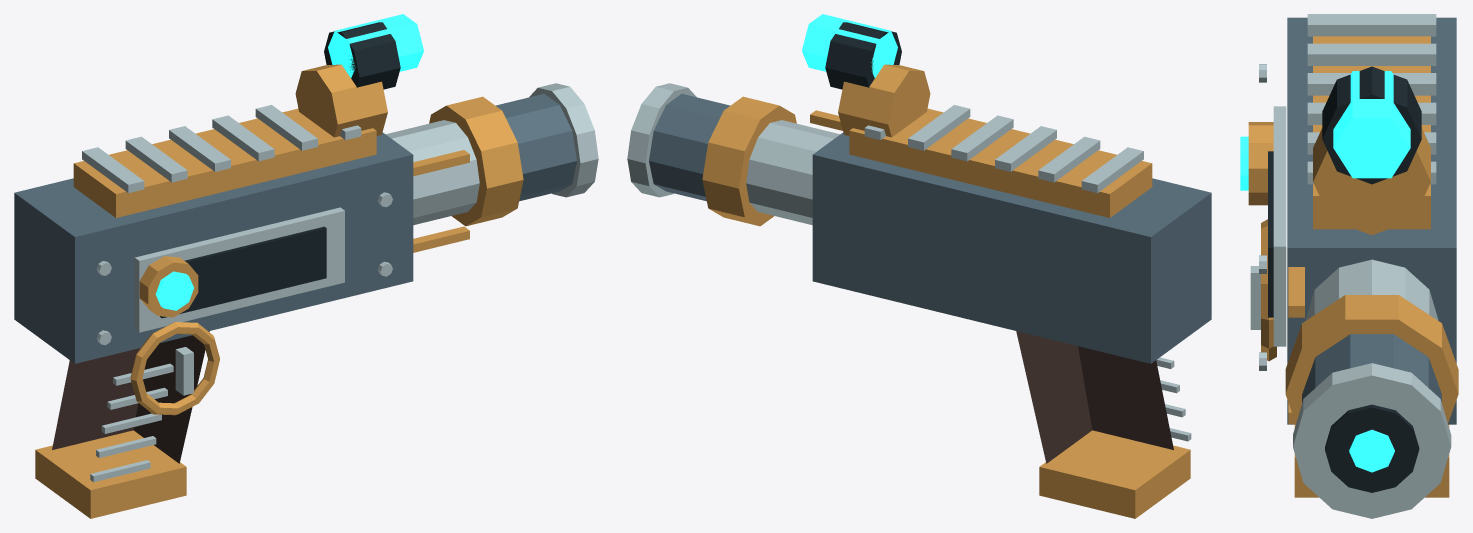
Rendered from asset.glb.
The picture shows the model from 3 angles, left to right: view 1: azimuth 30°, elevation 25°; view 2: azimuth 150°, elevation 25°; view 3: azimuth 270°, elevation 25°; orthographic projection. The views are drawn at different scales.
Visible parts, largest first — view 1: Receiver_Main, Top_Rail, Grip_Leather, Grip_Butt_Cap, Receiver_Inlay, Receiver_Side_Plate, Muzzle_Collar, Muzzle_Shroud, Barrel_Base, Emitter_Socket, Trigger_Guard, Muzzle_Rim (+12 smaller); view 2: Receiver_Main, Grip_Leather, Top_Rail, Grip_Butt_Cap, Barrel_Base, Muzzle_Collar, Muzzle_Shroud, Emitter_Socket, Muzzle_Rim, Crystal_Cage, Arcane_Crystal, Rail_Notch_01 (+4 smaller); view 3: Receiver_Main, Muzzle_Rim, Muzzle_Collar, Emitter_Socket, Arcane_Crystal, Muzzle_Bore, Muzzle_Shroud, Crystal_Cage, Barrel_Base, Receiver_Side_Plate, Top_Rail, Rail_Notch_00 (+13 smaller).
Part boxes in pixels (x1,y1,x2,y2): Receiver_Main: (14,132,413,363); Top_Rail: (73,108,376,217); Grip_Leather: (52,331,209,463); Grip_Butt_Cap: (35,430,186,518); Receiver_Inlay: (160,226,326,318); Receiver_Side_Plate: (134,207,344,332); Muzzle_Collar: (429,96,523,226); Muzzle_Shroud: (496,94,576,201); Barrel_Base: (386,120,479,225); Emitter_Socket: (295,64,387,137); Trigger_Guard: (130,322,219,415); Muzzle_Rim: (529,83,598,197); Receiver_Main: (812,132,1211,363); Grip_Leather: (1016,331,1173,463); Top_Rail: (849,108,1152,217); Grip_Butt_Cap: (1039,430,1190,518); Barrel_Base: (746,120,839,225); Muzzle_Collar: (702,96,796,226); Muzzle_Shroud: (649,94,729,201); Emitter_Socket: (838,64,930,137); Muzzle_Rim: (627,83,696,197); Crystal_Cage: (825,22,901,89); Arcane_Crystal: (802,14,897,77); Rail_Notch_01: (1038,136,1100,182); Receiver_Main: (1287,17,1456,424); Muzzle_Rim: (1293,363,1451,518); Muzzle_Collar: (1285,295,1458,423); Emitter_Socket: (1313,128,1430,235); Arcane_Crystal: (1333,71,1410,178); Muzzle_Bore: (1325,404,1419,492); Muzzle_Shroud: (1302,334,1441,402); Crystal_Cage: (1322,66,1421,184); Barrel_Base: (1305,259,1438,320); Receiver_Side_Plate: (1273,106,1286,346); Top_Rail: (1313,36,1430,229); Rail_Notch_00: (1307,14,1436,36).
Size of the model in its own units: 2.33 by 1.66 by 0.5925.
